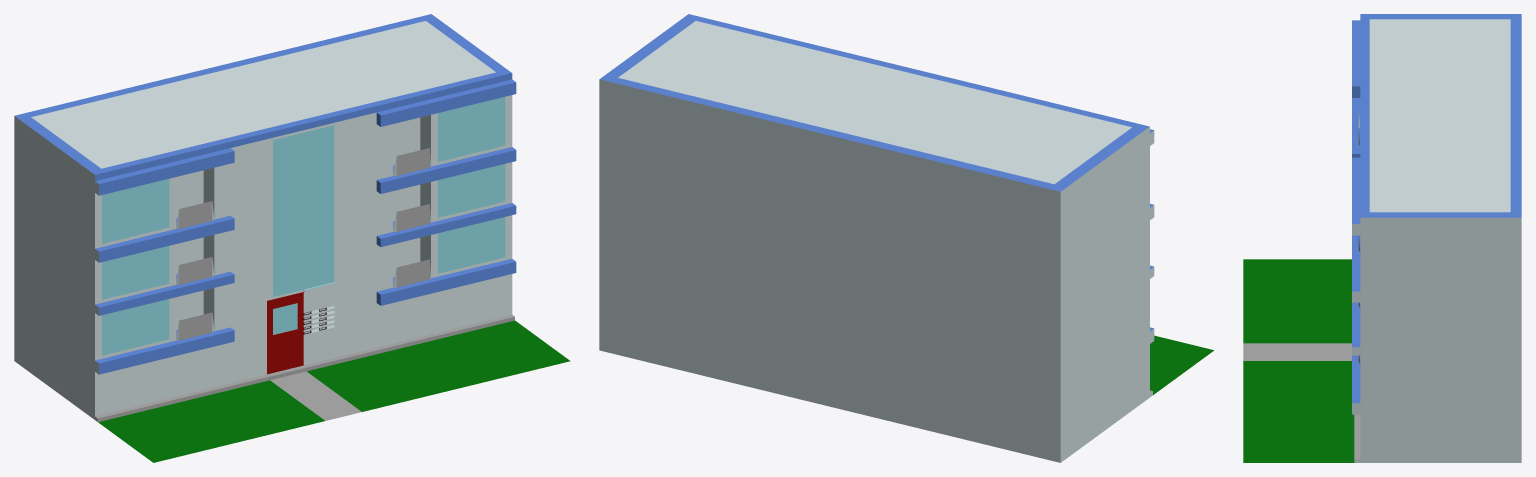
Rendered from SELWERD_HOUSE.fbx.
3 views of the same model, side by side, from view 1: azimuth 30°, elevation 25°; view 2: azimuth 150°, elevation 25°; view 3: azimuth 270°, elevation 25° (orthographic). The views are drawn at different scales.
Parts seen in each view (by area): view 1: HCouse; view 2: HCouse; view 3: HCouse.
Part boxes in pixels (bbox=[...]): HCouse: bbox=[14, 14, 570, 462]; HCouse: bbox=[599, 14, 1213, 462]; HCouse: bbox=[1243, 14, 1521, 462].
Size of the model in its own units: 16.51 by 9.27 by 9.54.
